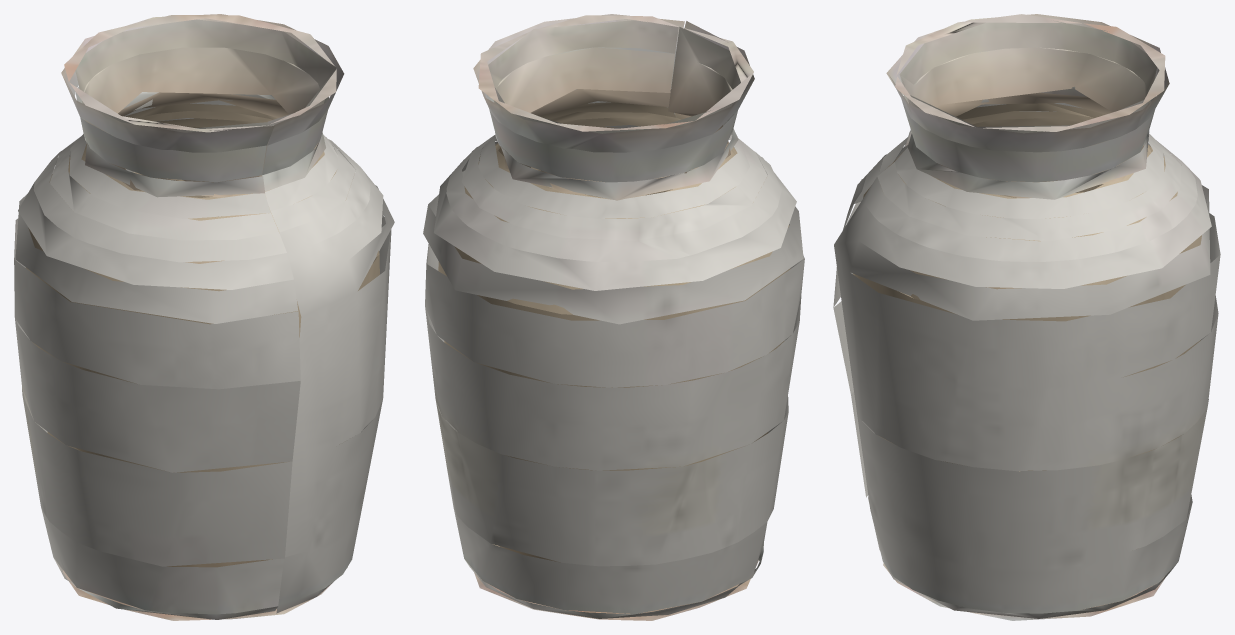
The model's file is jar_ceramic.glb.
3 views of the same model, side by side, from view 1: azimuth 30°, elevation 25°; view 2: azimuth 150°, elevation 25°; view 3: azimuth 270°, elevation 25° (orthographic).
Visible parts, largest first — view 1: ceramic_vase_02; view 2: ceramic_vase_02; view 3: ceramic_vase_02.
Boxes of the visible parts, x1,y1,x2,y2 form: ceramic_vase_02: [14, 14, 394, 620]; ceramic_vase_02: [423, 14, 804, 620]; ceramic_vase_02: [833, 14, 1220, 620].
Bounding box in the file's own units: 0.2165 × 0.3083 × 0.2216.
Materials: 1 (1 with a texture image).
